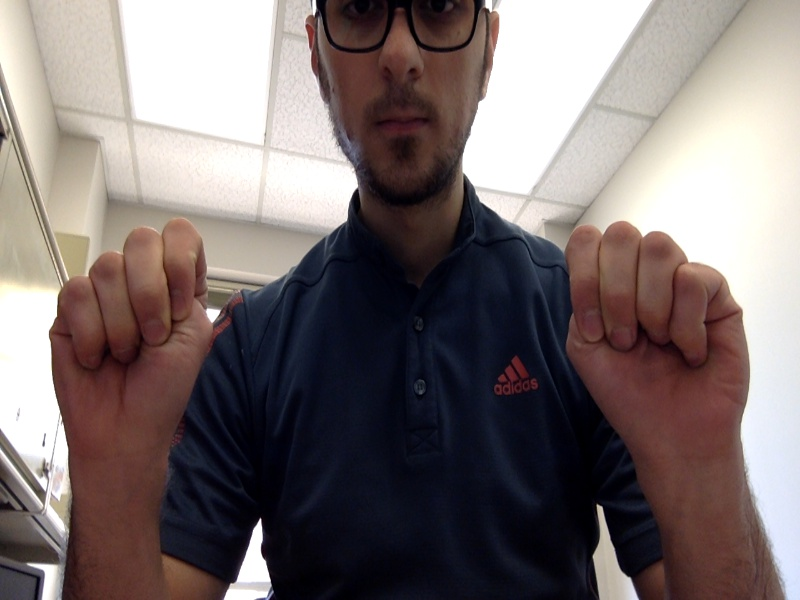0-hand: (567, 223, 749, 451), (50, 218, 210, 455)
